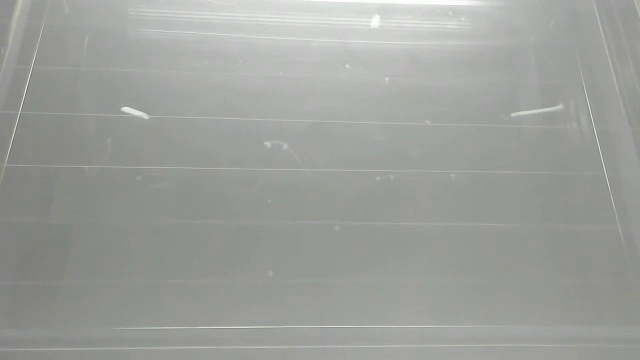alpha: (509, 102, 566, 120), (119, 104, 153, 122), (369, 12, 382, 31)
